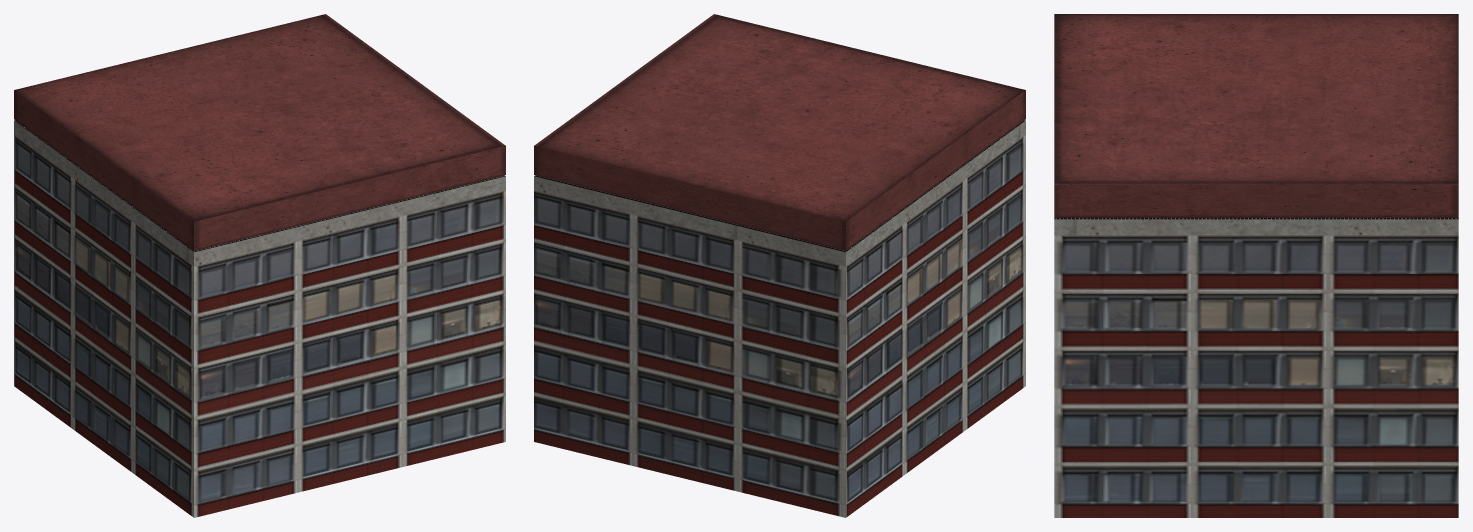
The model's file is building 1 base.FBX.
The picture shows the model from 3 angles, left to right: view 1: azimuth 30°, elevation 25°; view 2: azimuth 150°, elevation 25°; view 3: azimuth 270°, elevation 25°; orthographic projection. The views are drawn at different scales.
Parts seen in each view (by area): view 1: Group6, Group7; view 2: Group6, Group7; view 3: Group6, Group7.
Part boxes in pixels (left/top/right/bottom): Group6: left=14, top=120, right=505, bottom=517; Group7: left=14, top=14, right=505, bottom=250; Group6: left=534, top=120, right=1025, bottom=517; Group7: left=534, top=14, right=1025, bottom=250; Group6: left=1054, top=218, right=1458, bottom=517; Group7: left=1054, top=14, right=1458, bottom=217.
Size of the model in its own units: 267 by 243 by 267.
